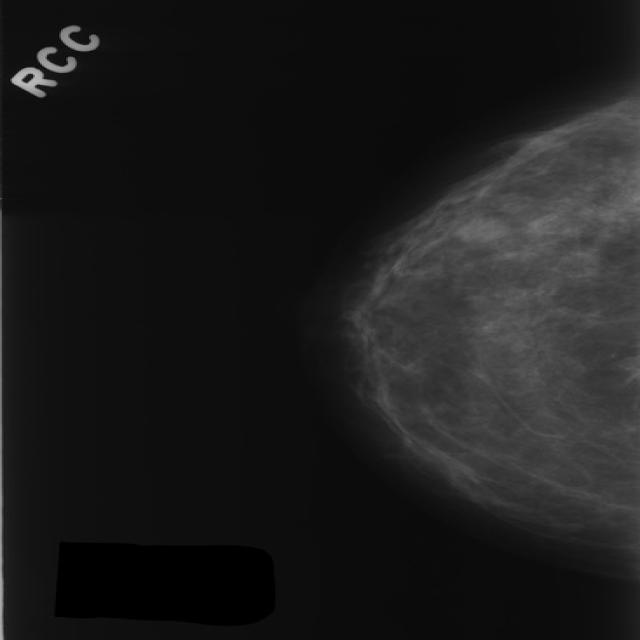tumour: (450, 215, 507, 243)
